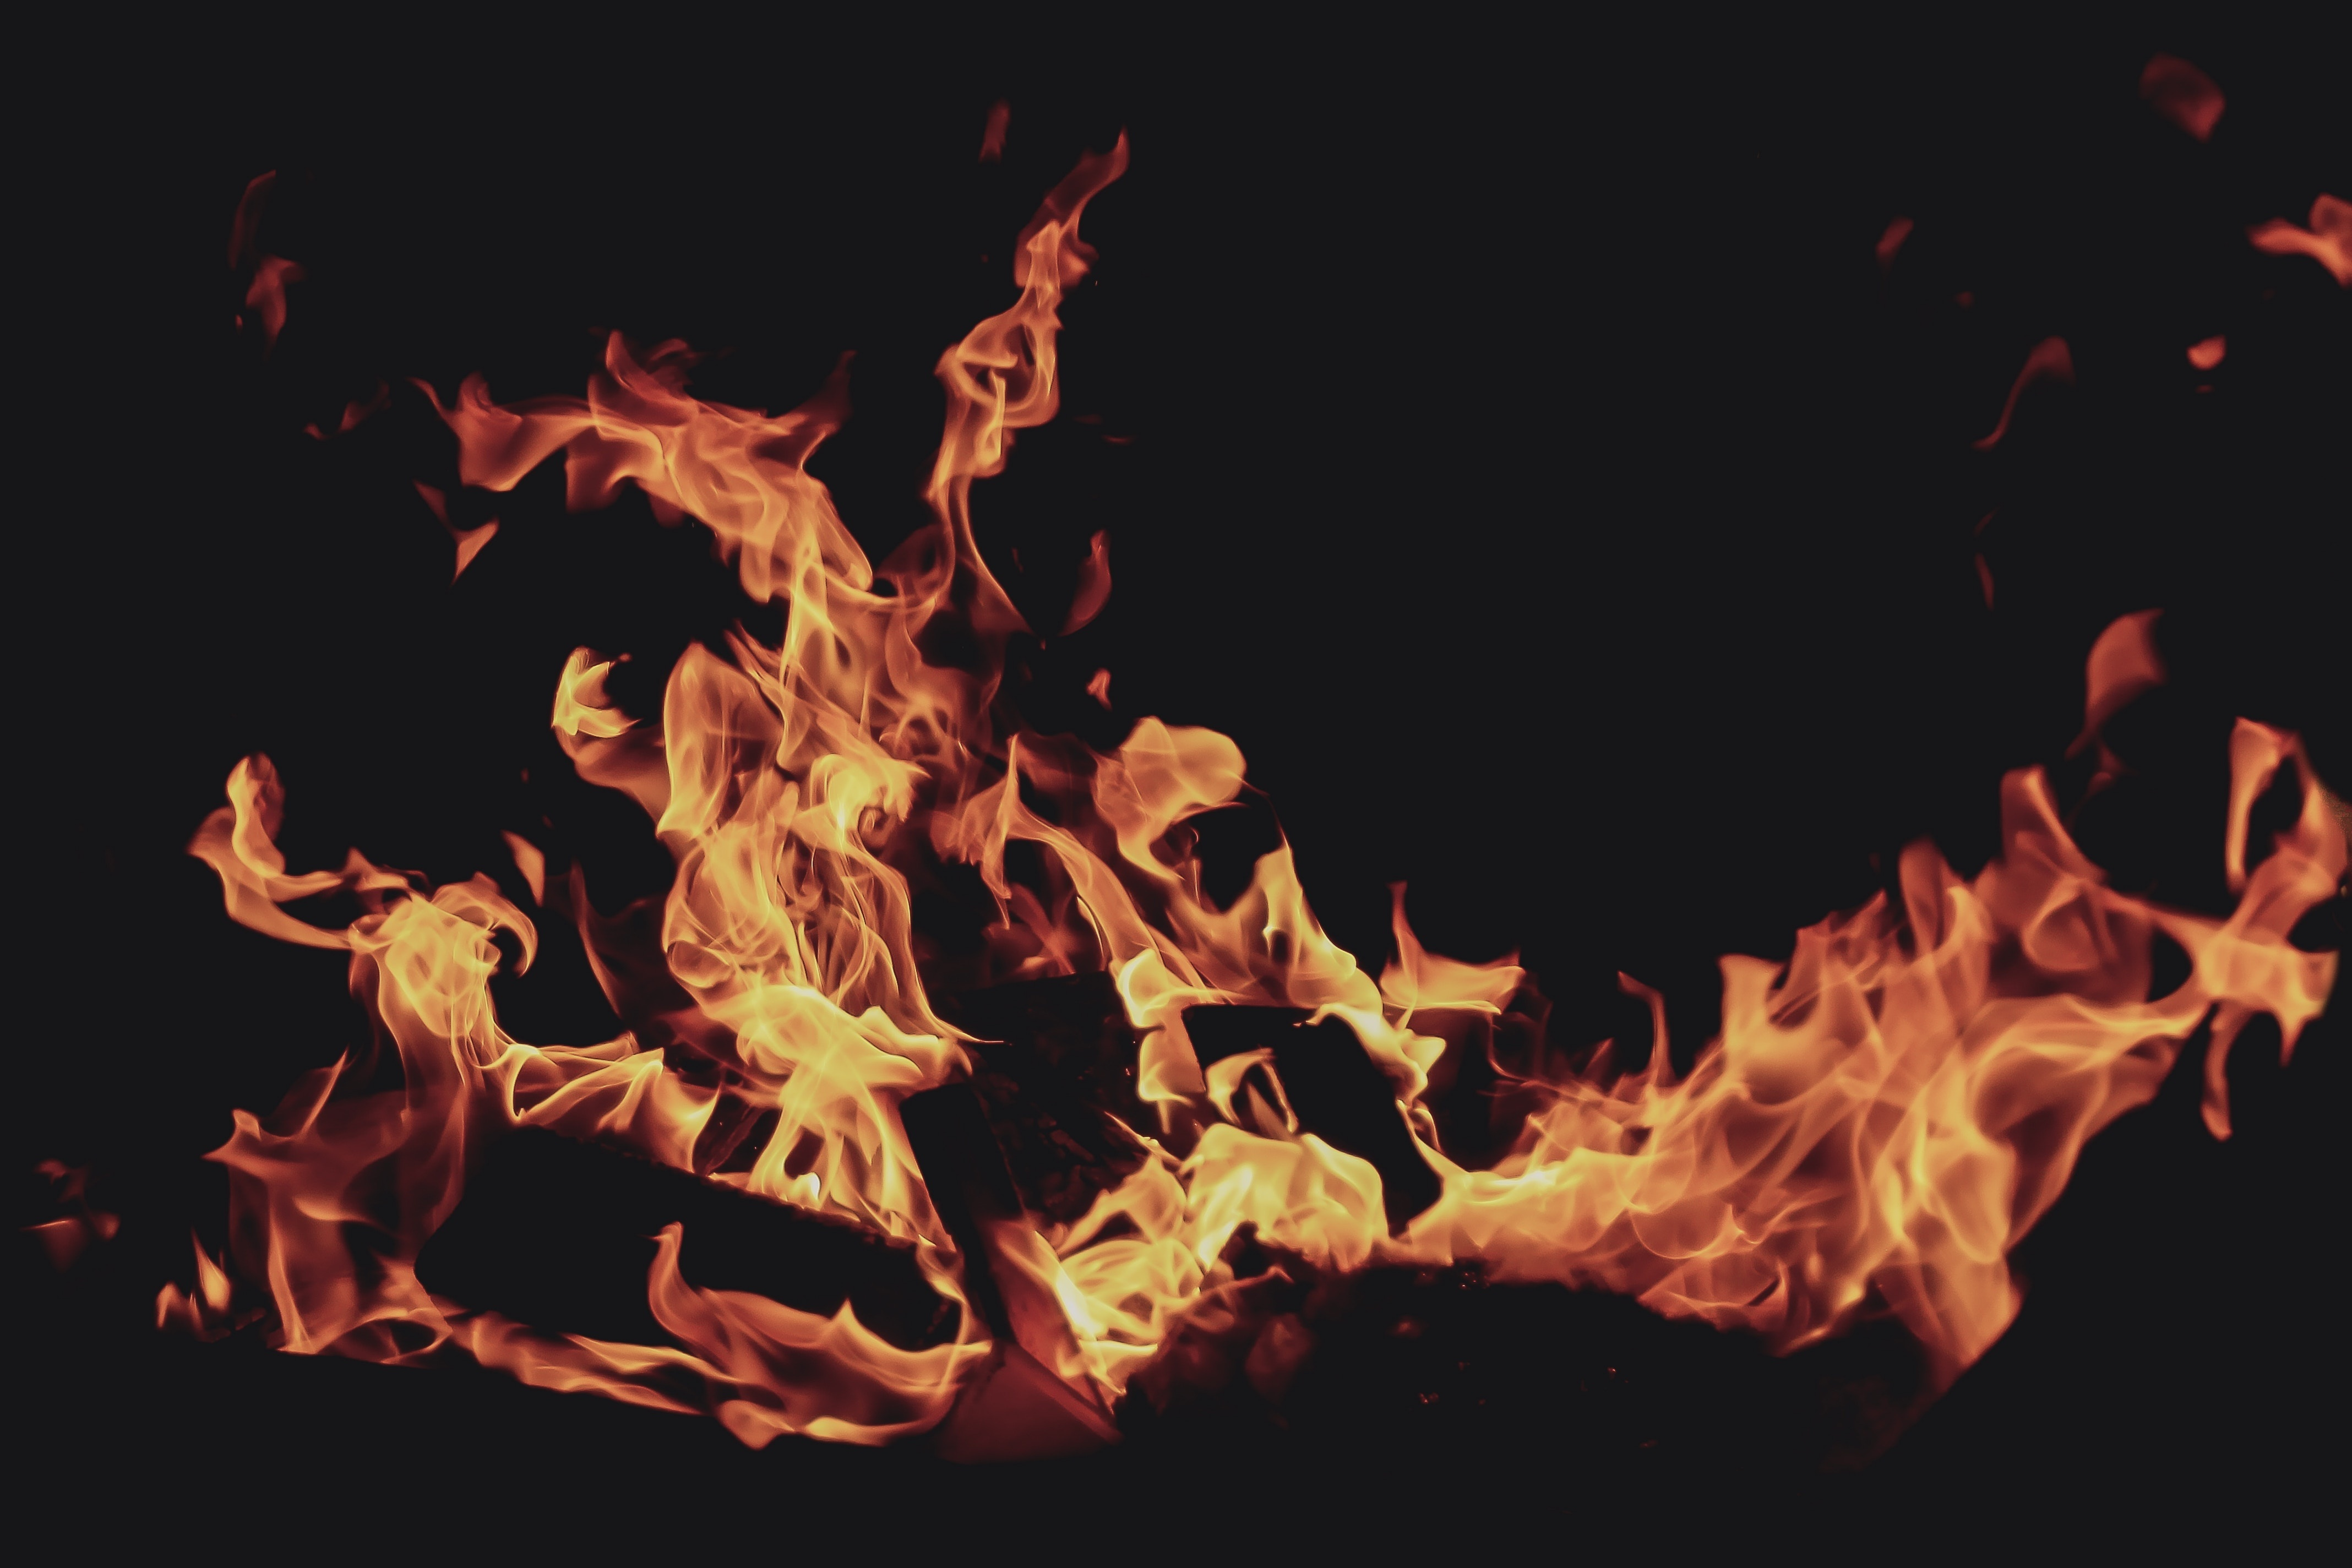fire: (152, 140, 1811, 1480)
